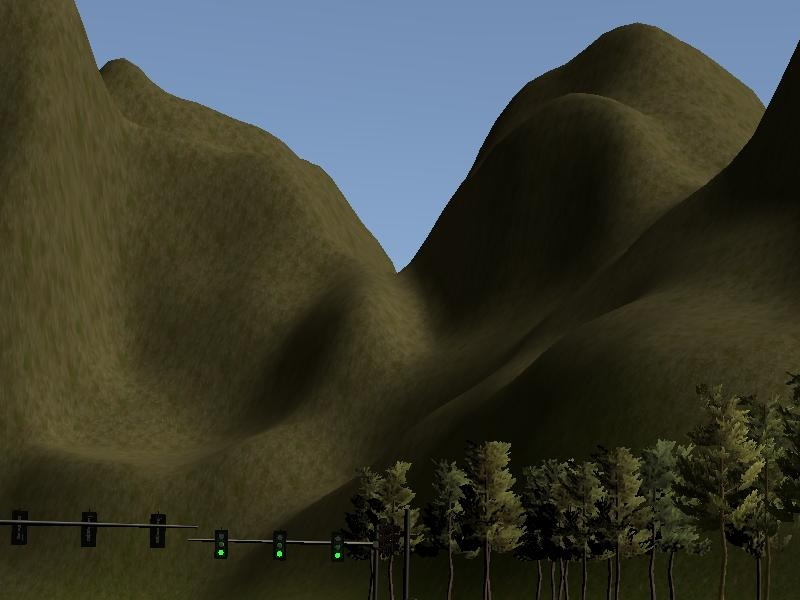green: (269, 529, 290, 565), (330, 531, 350, 568), (213, 528, 233, 562)
